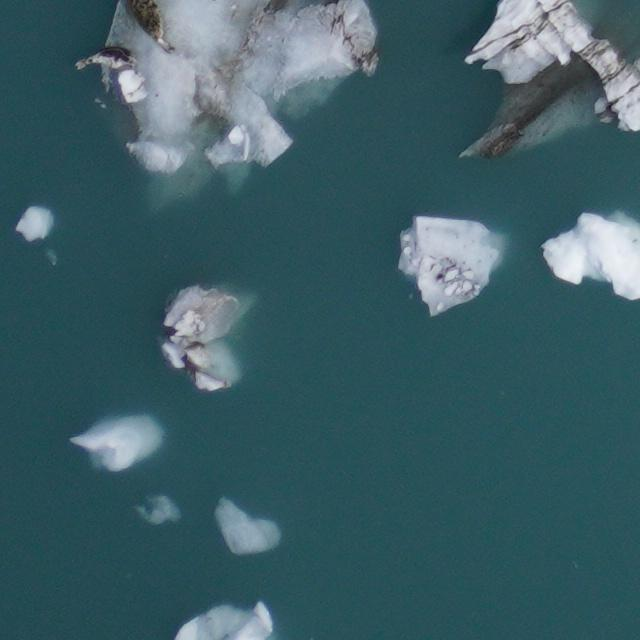seal: (75, 45, 135, 68)
